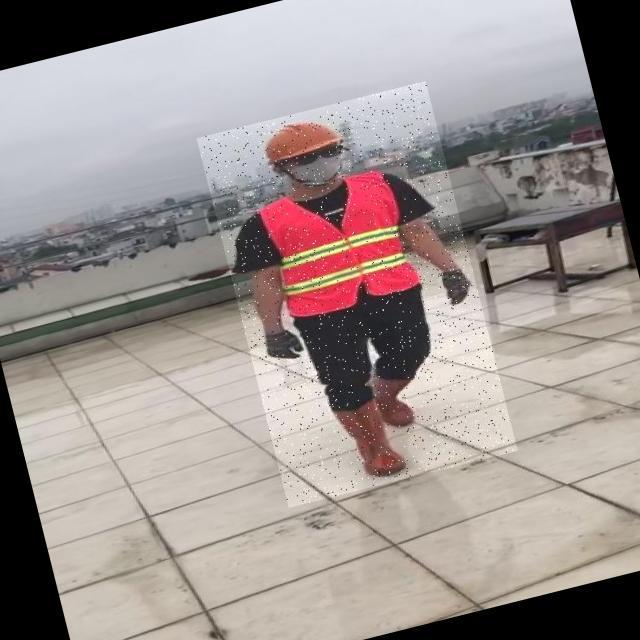Gloves: (261, 326, 305, 363), (442, 264, 476, 306)
Helmet: (258, 110, 344, 164)
Human: (197, 81, 518, 508)
Safety Boot: (328, 395, 409, 487), (365, 364, 432, 435)
Safety Vest: (253, 170, 422, 324)
